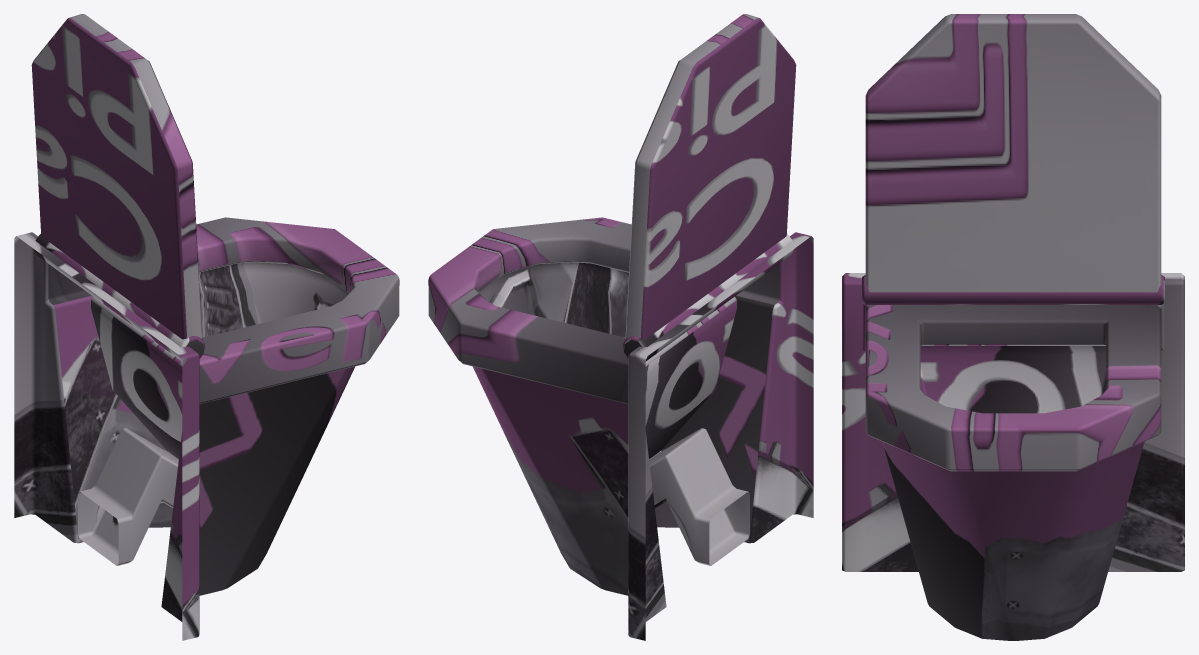
Rendered from SM_PrisonCellToilet.fbx.
The picture shows the model from 3 angles, left to right: view 1: azimuth 30°, elevation 25°; view 2: azimuth 150°, elevation 25°; view 3: azimuth 270°, elevation 25°; orthographic projection. The views are drawn at different scales.
Visible parts, largest first — view 1: Toilet Base, Toilet Cover; view 2: Toilet Base, Toilet Cover; view 3: Toilet Base, Toilet Cover.
Part boxes in pixels (bbox=[...]): Toilet Base: bbox=[14, 217, 399, 640]; Toilet Cover: bbox=[31, 14, 204, 361]; Toilet Base: bbox=[428, 217, 813, 640]; Toilet Cover: bbox=[623, 14, 796, 361]; Toilet Base: bbox=[842, 273, 1184, 640]; Toilet Cover: bbox=[862, 14, 1164, 304].
Size of the model in its own units: 43.07 by 46.37 by 82.23.
